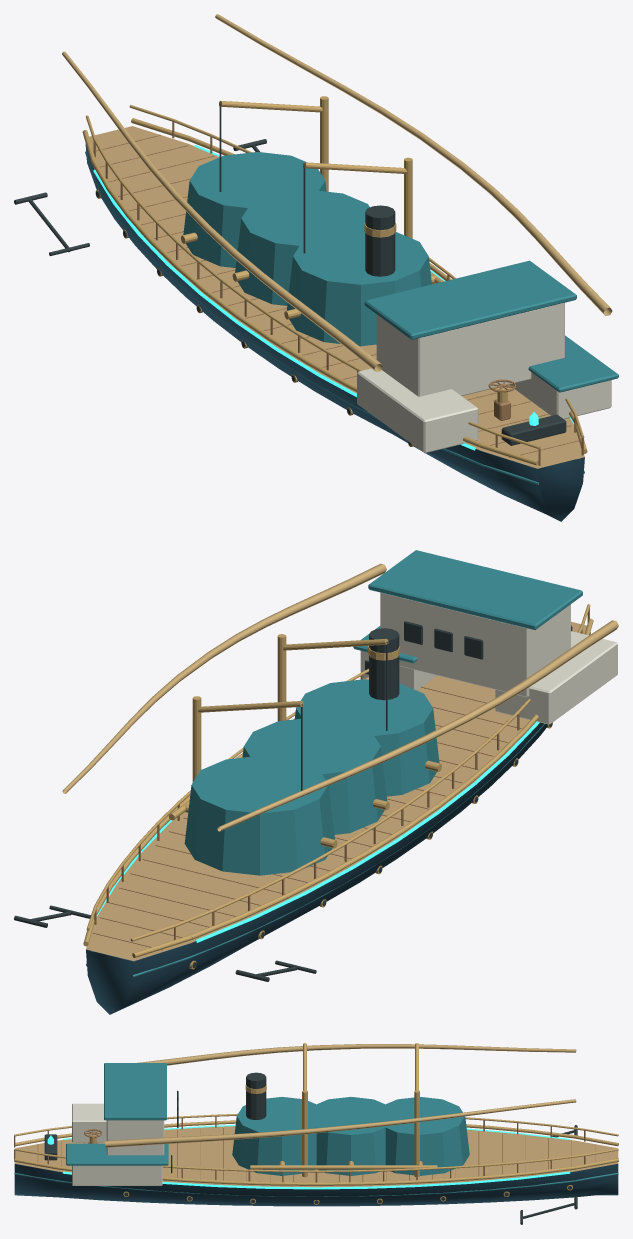
Rendered from ship_tanker.glb.
The picture shows the model from 3 angles, top to bottom: view 1: azimuth 30°, elevation 25°; view 2: azimuth 150°, elevation 25°; view 3: azimuth 270°, elevation 25°; orthographic projection. The views are drawn at different scales.
Visible parts, largest first — view 1: ship_tanker; view 2: ship_tanker; view 3: ship_tanker.
Part boxes in pixels (x1,y1,x2,y2): ship_tanker: (14,14,618,521); ship_tanker: (14,550,618,1014); ship_tanker: (14,1043,618,1224).
Bounding box in the file's own units: 7.09 × 5.37 × 21.05.
